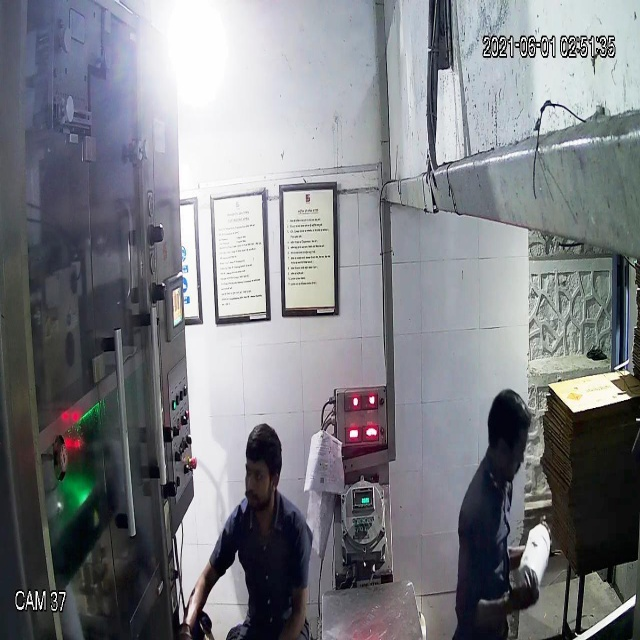Sin_gafas: (239, 455, 277, 489)
